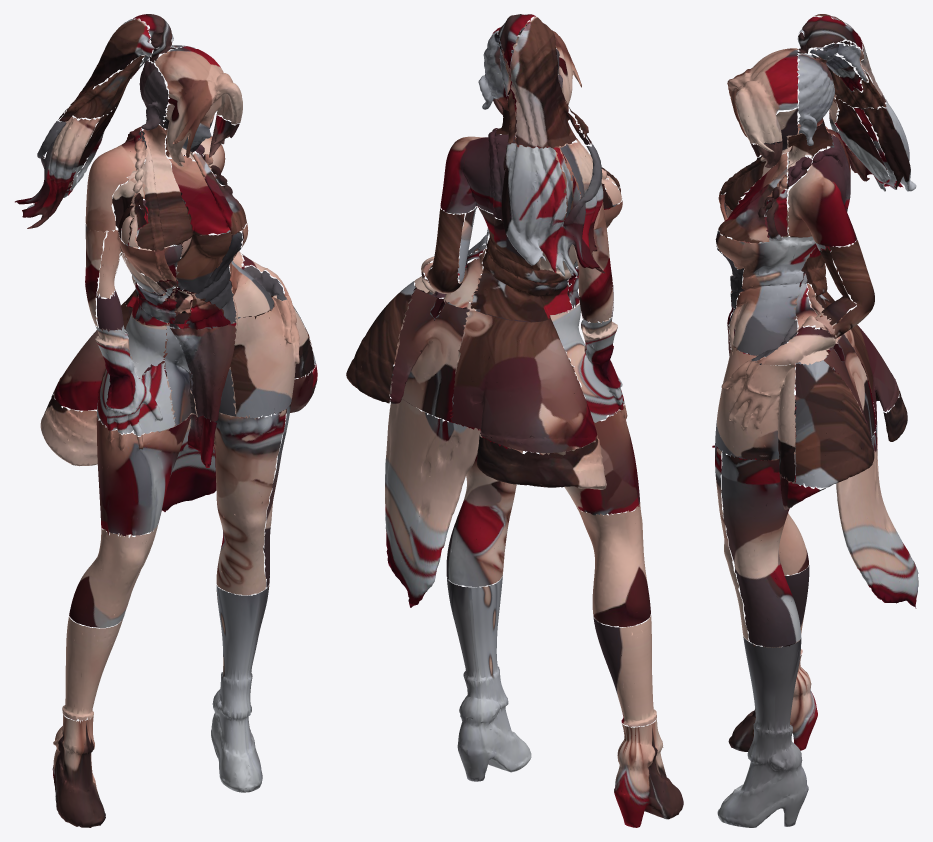
File: Mai.glb
3 renders of one model, left to right at view 1: azimuth 30°, elevation 25°; view 2: azimuth 150°, elevation 25°; view 3: azimuth 270°, elevation 25°, orthographic. The views are drawn at different scales.
Visible parts, largest first — view 1: mai; view 2: mai; view 3: mai.
Part boxes in pixels (x1,y1,x2,y2): mai: (15,14,317,827); mai: (346,14,683,827); mai: (712,14,918,827).
Size of the model in its own units: 0.3862 by 0.9996 by 0.241.
1 material, 1 textured.
